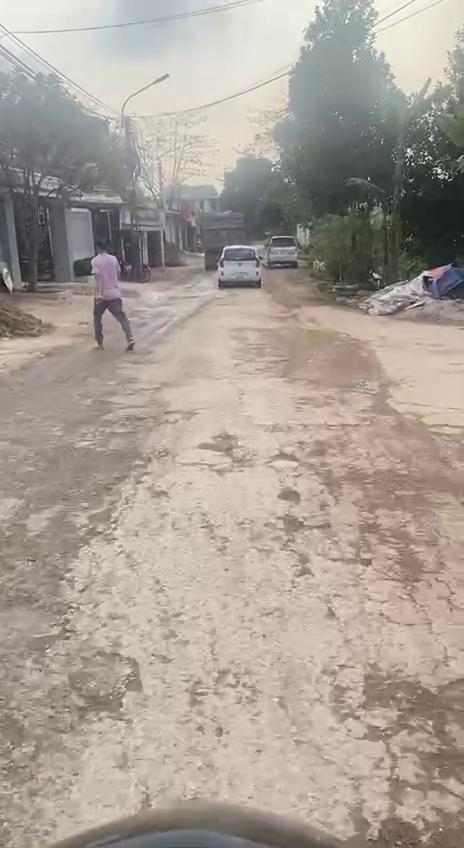pothole: (360, 677, 464, 848), (66, 664, 138, 732), (0, 717, 41, 791)
